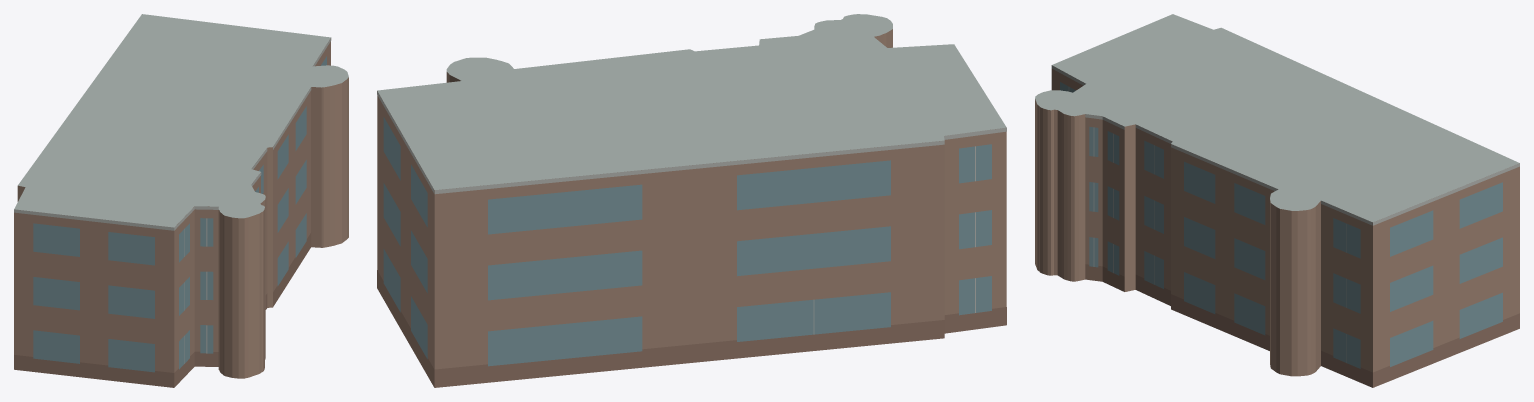
Rendered from survey-upis-32833064.glb.
3 views of the same model, side by side, from view 1: azimuth 30°, elevation 25°; view 2: azimuth 150°, elevation 25°; view 3: azimuth 270°, elevation 25° (orthographic). The views are drawn at different scales.
Visible parts, largest first — view 1: survey-upis-32833064.tmp; view 2: survey-upis-32833064.tmp; view 3: survey-upis-32833064.tmp.
Part boxes in pixels (x1,y1,x2,y2): survey-upis-32833064.tmp: [14, 14, 348, 387]; survey-upis-32833064.tmp: [377, 14, 1006, 387]; survey-upis-32833064.tmp: [1035, 14, 1519, 387].
Size of the model in its own units: 32.28 by 11.95 by 31.74.
